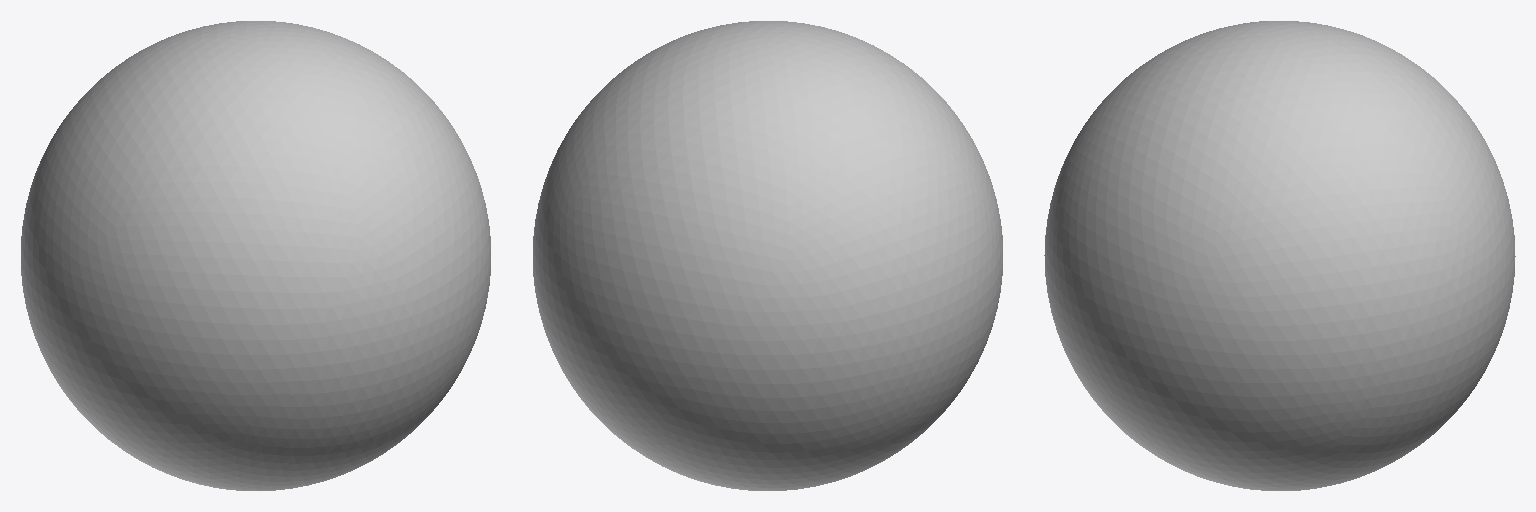
File: inverted-sphere-5.obj
3 views of the same model, side by side, from view 1: azimuth 30°, elevation 25°; view 2: azimuth 150°, elevation 25°; view 3: azimuth 270°, elevation 25° (orthographic).
Size of the model in its own units: 2 by 2 by 2.